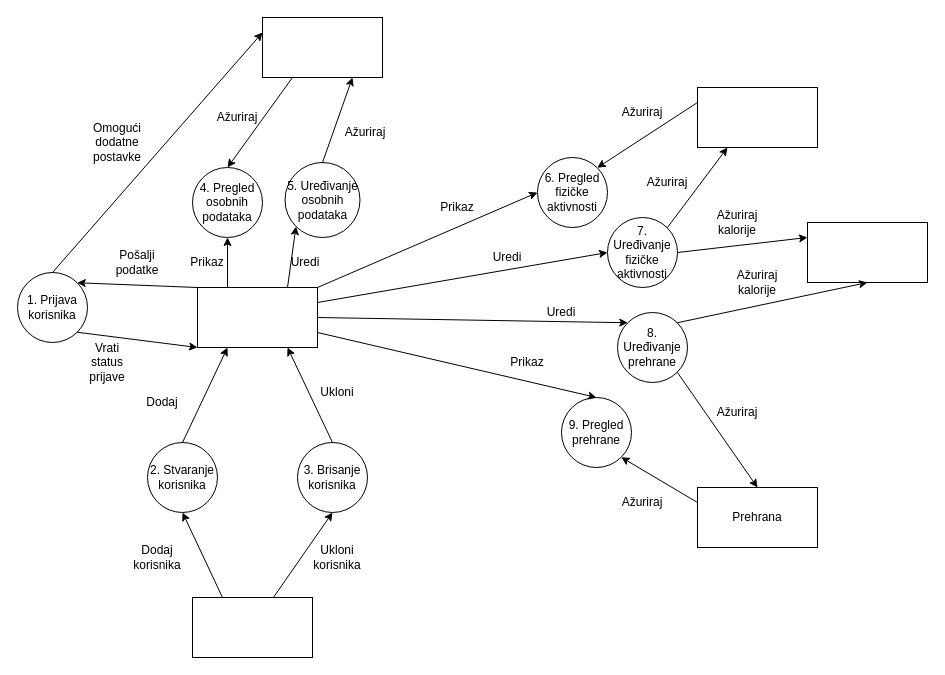
Image size: 945x675. Some labels were removed from this diagram. Each missing label, with the centre of its shape:
"Administrator" belongs at [252,627].
"Dnevne kalorije" belongs at [867,252].
"Fizička aktivnost" belongs at [757,117].
"Korisnik" belongs at [257,317].
"Profil" belongs at [322,47].
